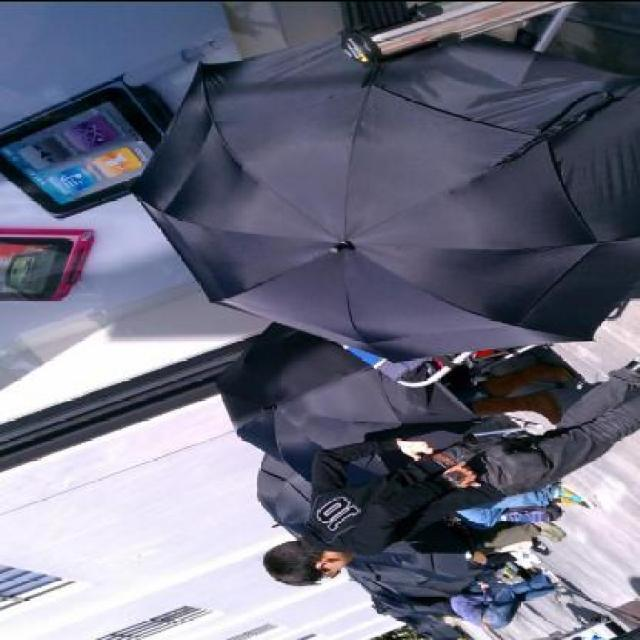phone: (9, 60, 145, 212), (0, 227, 98, 298)
